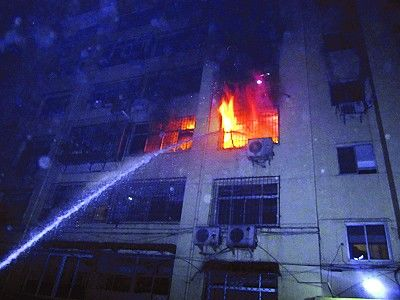fire: (215, 85, 278, 146)
